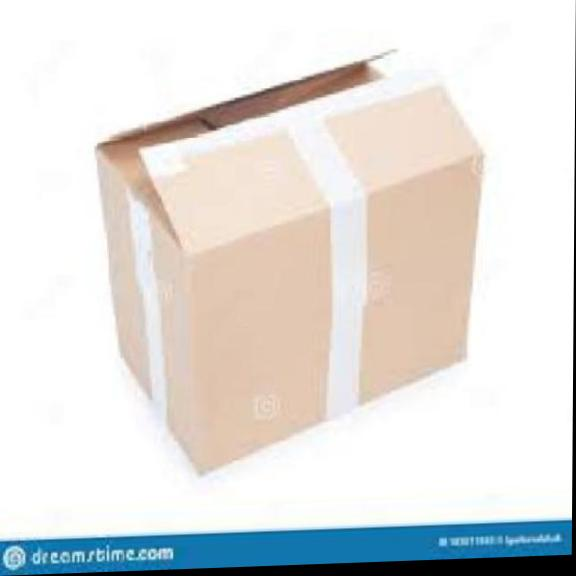Kertas: (98, 58, 482, 470)
